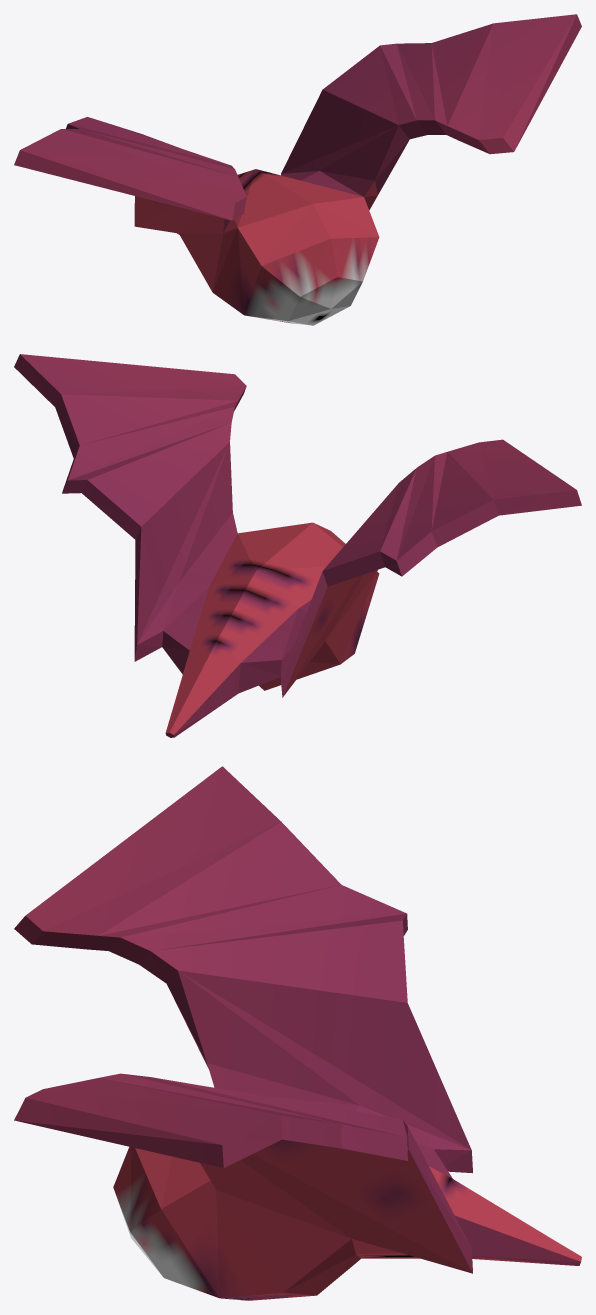
The model's file is bat_hurt.obj.
3 renders of one model, top to bottom at view 1: azimuth 30°, elevation 25°; view 2: azimuth 150°, elevation 25°; view 3: azimuth 270°, elevation 25°, orthographic. The views are drawn at different scales.
Visible parts, largest first — view 1: Sphere; view 2: Sphere; view 3: Sphere.
Boxes of the visible parts, box(x1,y1,x2,y2) form: Sphere: box(14, 14, 581, 325); Sphere: box(14, 354, 581, 737); Sphere: box(14, 766, 581, 1300).
Bounding box in the file's own units: 7.68 × 3.2 × 4.77.
